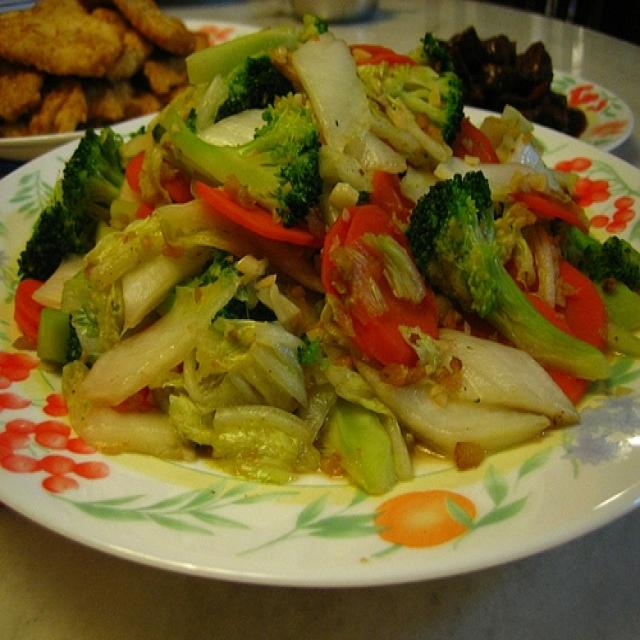蔬菜料理: (22, 12, 623, 570)
